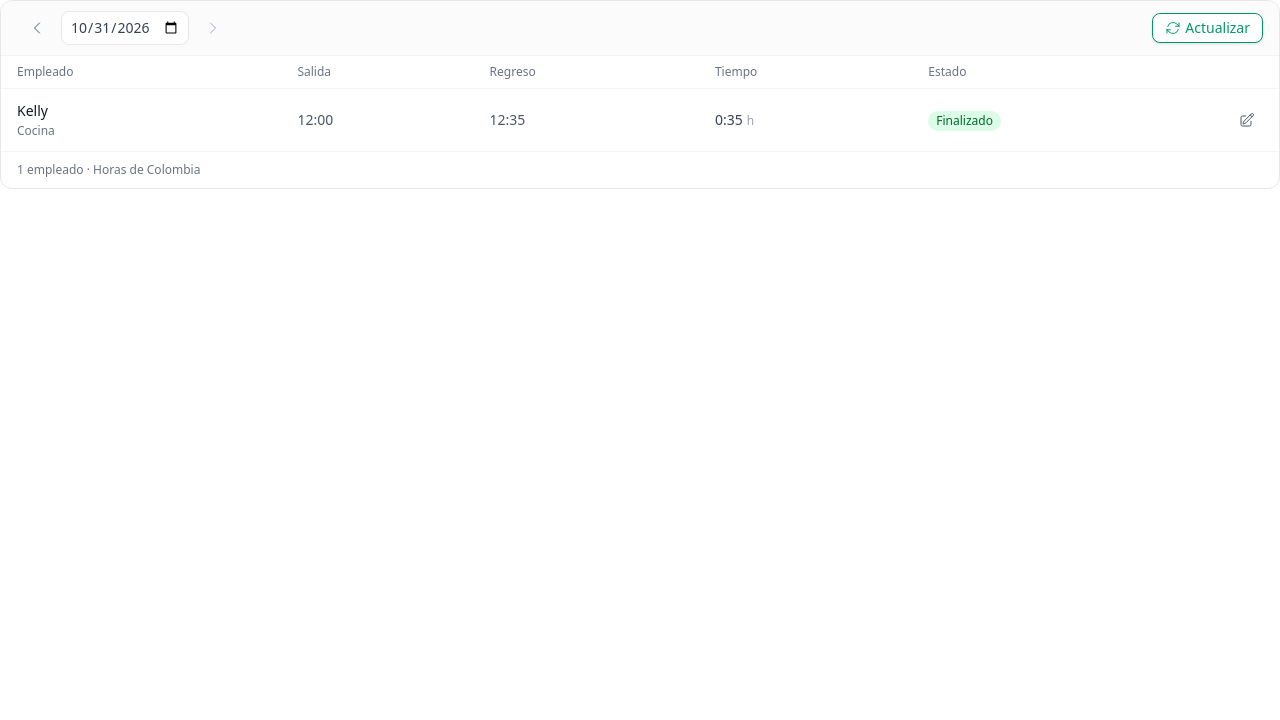
Scenario: historial de almuerzos › no reintenta automáticamente una corrección rechazada por concurrencia
Click the button named "Corregir almuerzo de Kelly": {"x": 1247, "y": 120} [1227,106,1267,134]
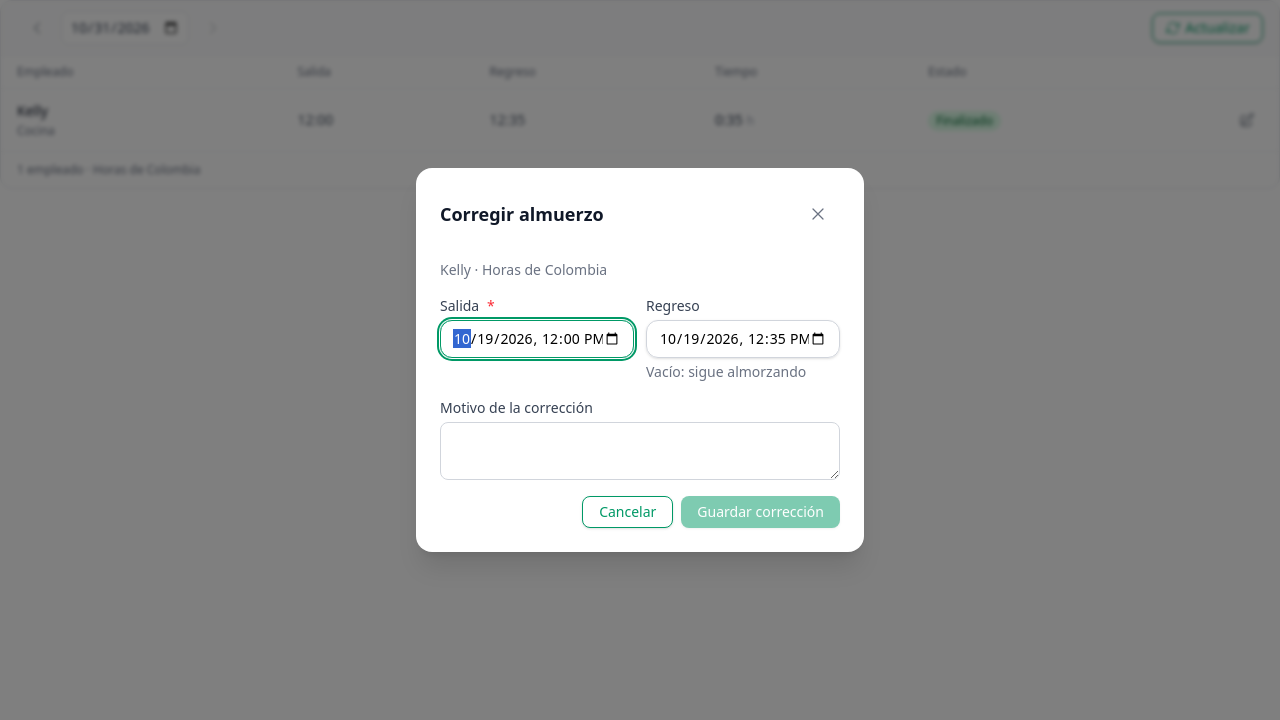
In the text box labelled "Motivo de la corrección": {"x": 640, "y": 451} [440,422,840,480], type "Ajuste"
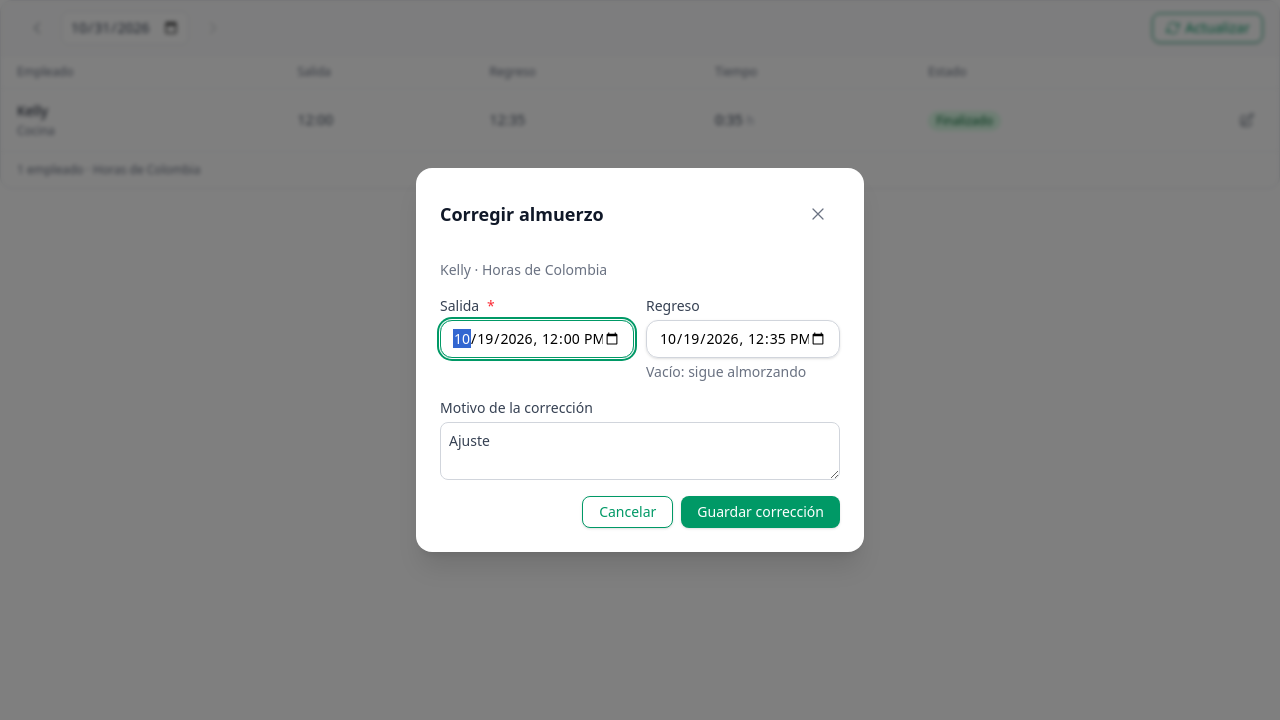
Submit the form, box [440,260,840,528]
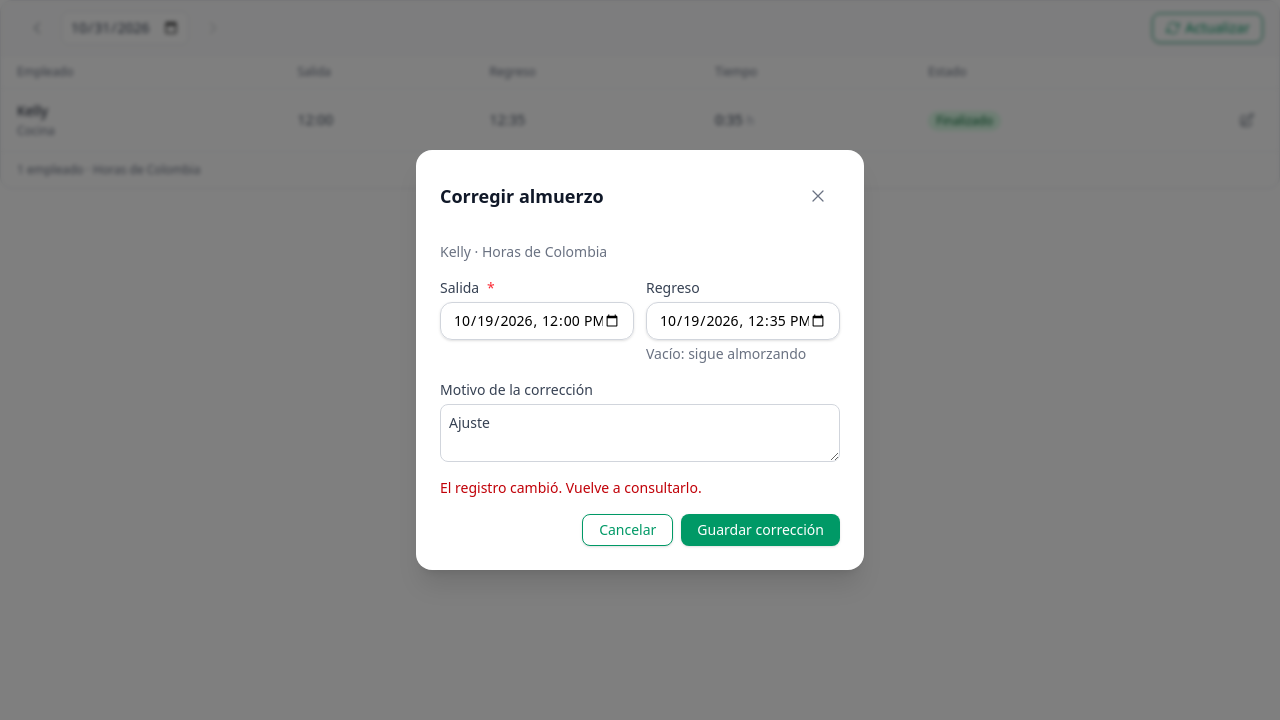
Result: the dialog shows "El registro cambió" at [440,478,702,497]
